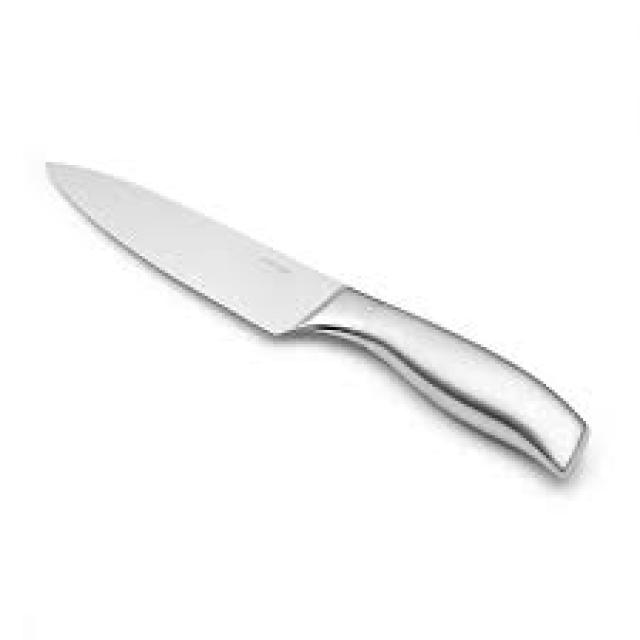Knife: (42, 156, 588, 478)
